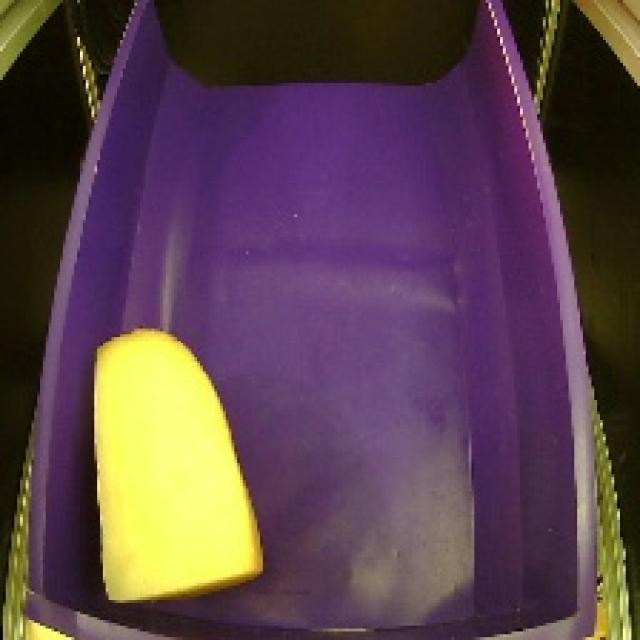potato: (74, 317, 279, 618)
